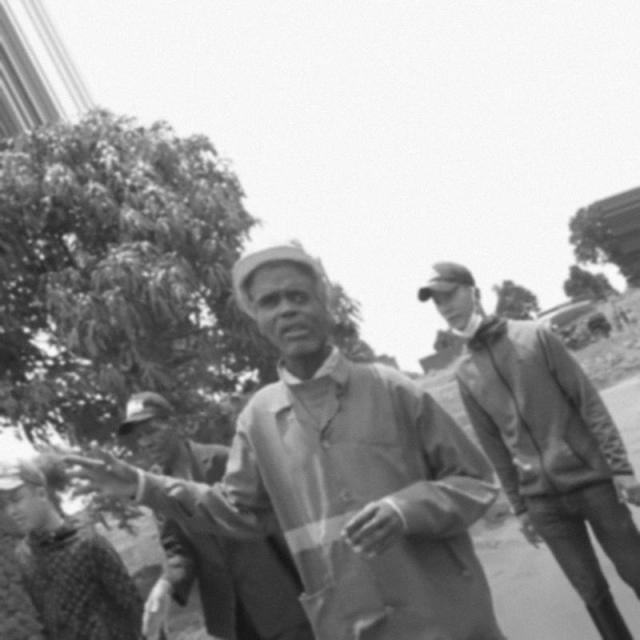hairnet: (432, 298, 482, 336)
